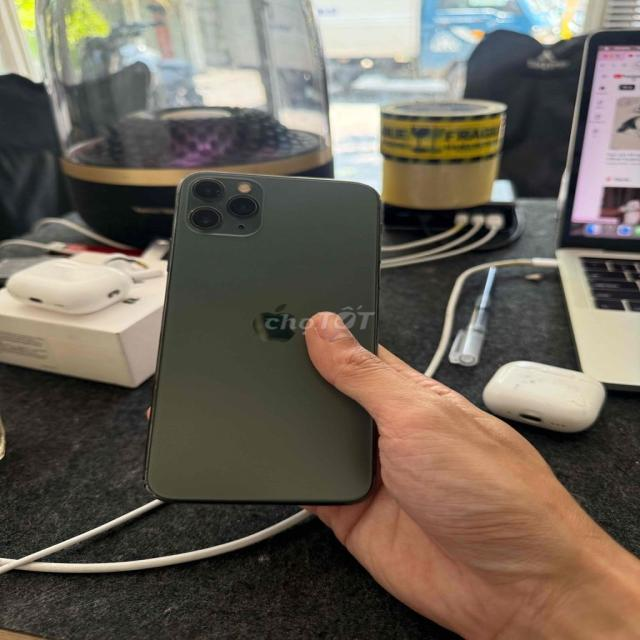gen_11: (145, 173, 380, 504)
